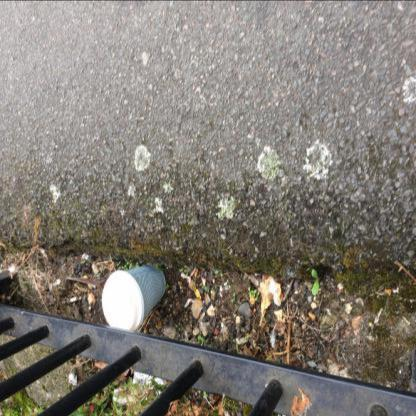Cup: (102, 264, 166, 331)
Lid: (102, 270, 143, 331)
Paper: (133, 371, 167, 390)
Unlabeled litter: (69, 373, 78, 385)
